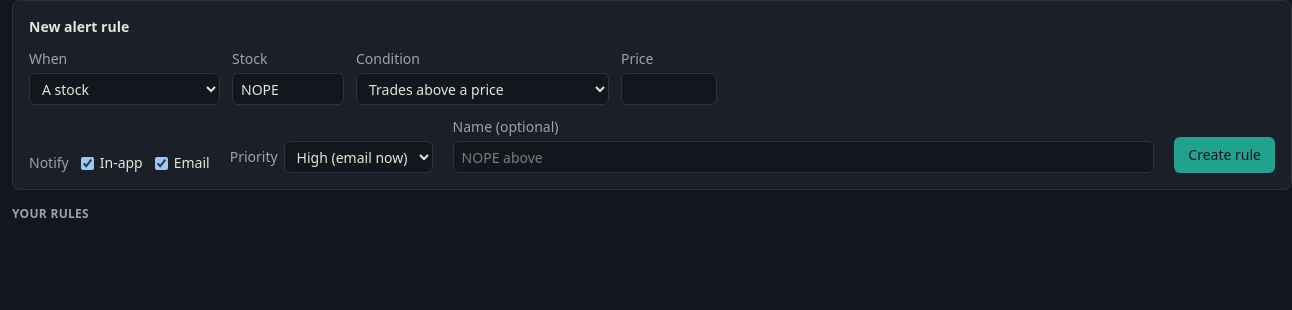
rule builder › shows why the API refused a rule
Type "10" into the number field labelled "Price" at {"x": 669, "y": 89}, box [621,73,717,105]
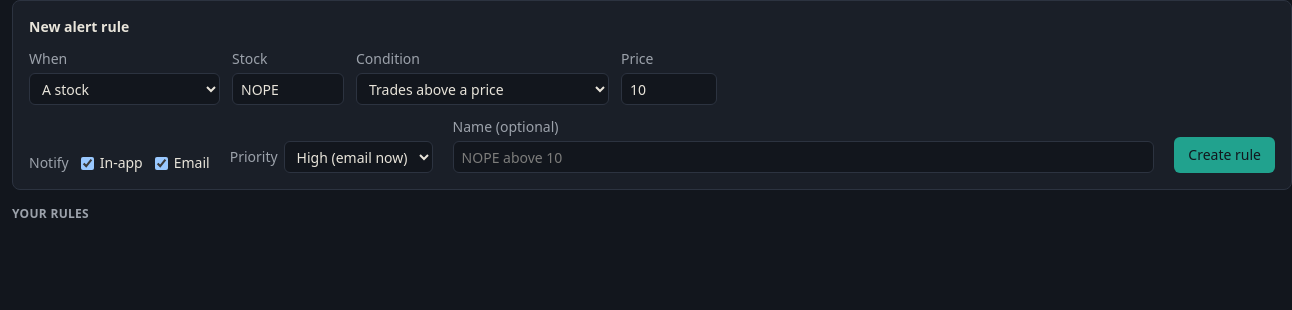
Click the button "Create rule" at {"x": 1225, "y": 155}, box [1174,137,1275,173]
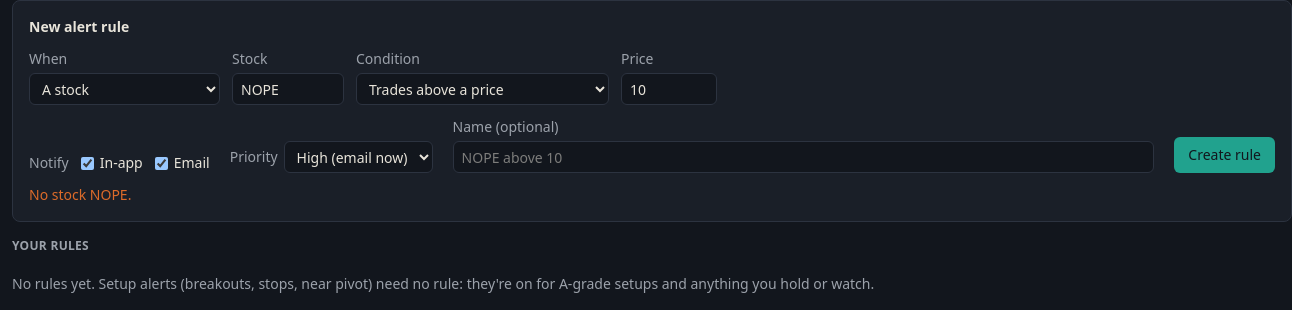
Check: the message reads "No stock NOPE.", box [29,185,131,204]
